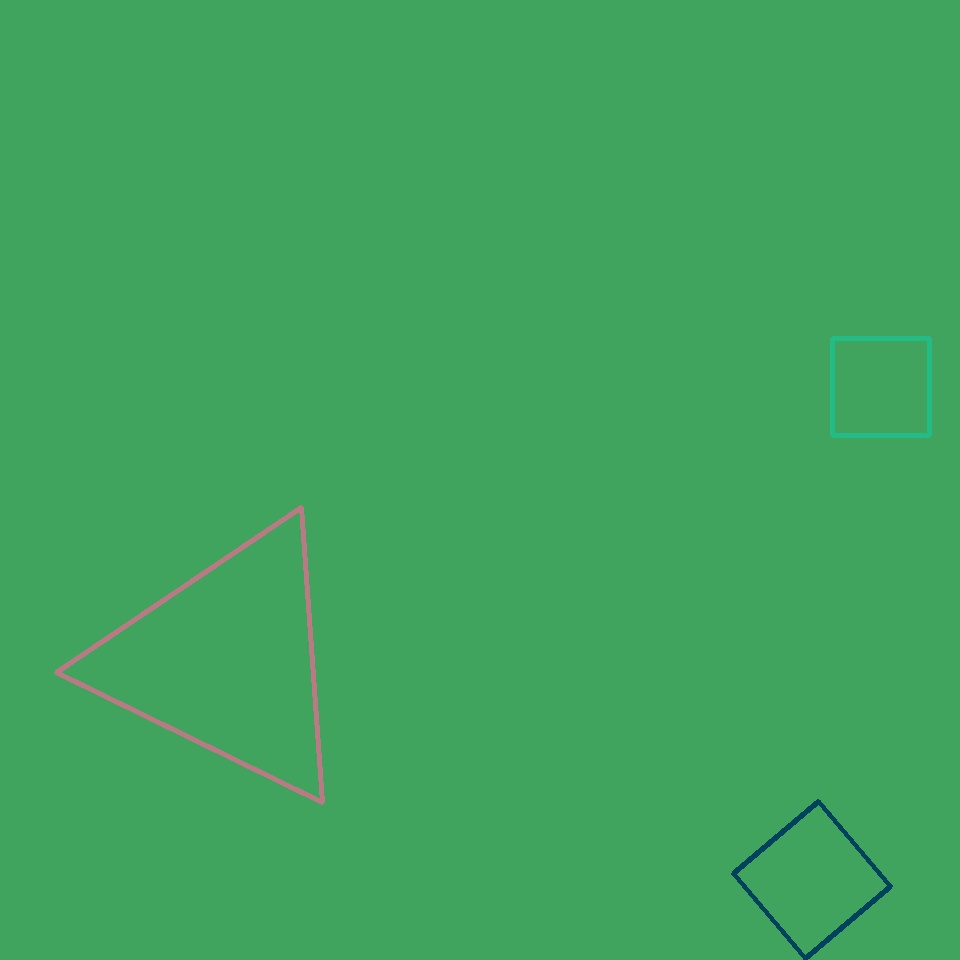circle: (94, 514, 360, 809)
square: (734, 802, 890, 958), (832, 338, 930, 436)
